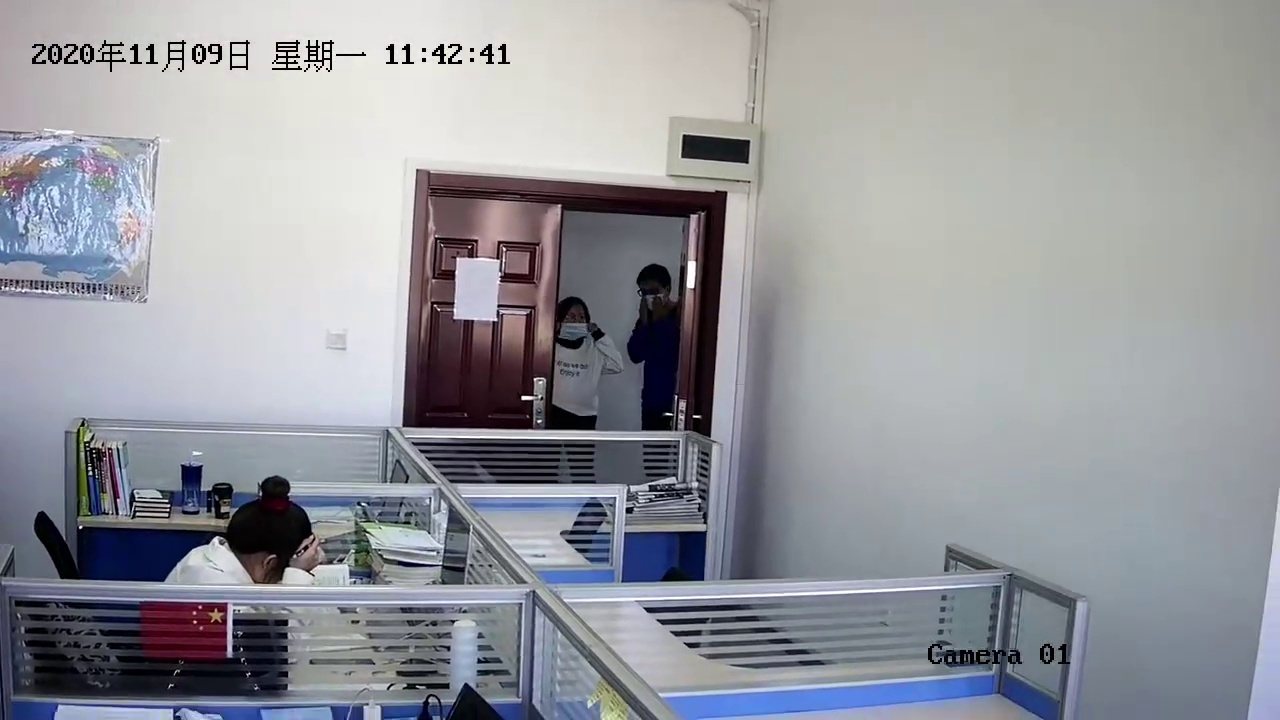mask: (635, 265, 673, 318), (556, 294, 592, 341)
